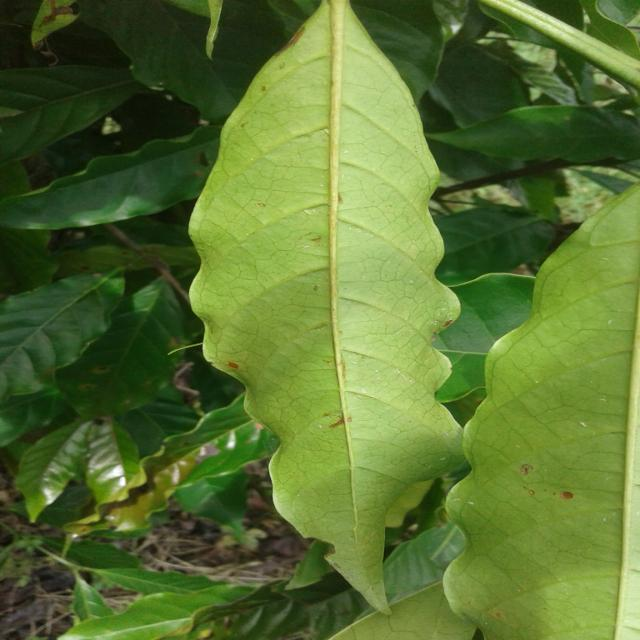Enfermedad-Roya: (187, 0, 471, 613)
